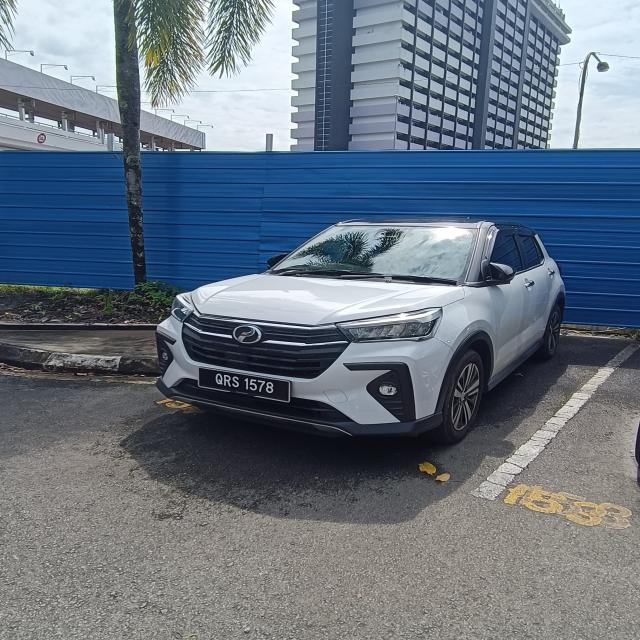PeroduaAtiva: (152, 216, 568, 445)
